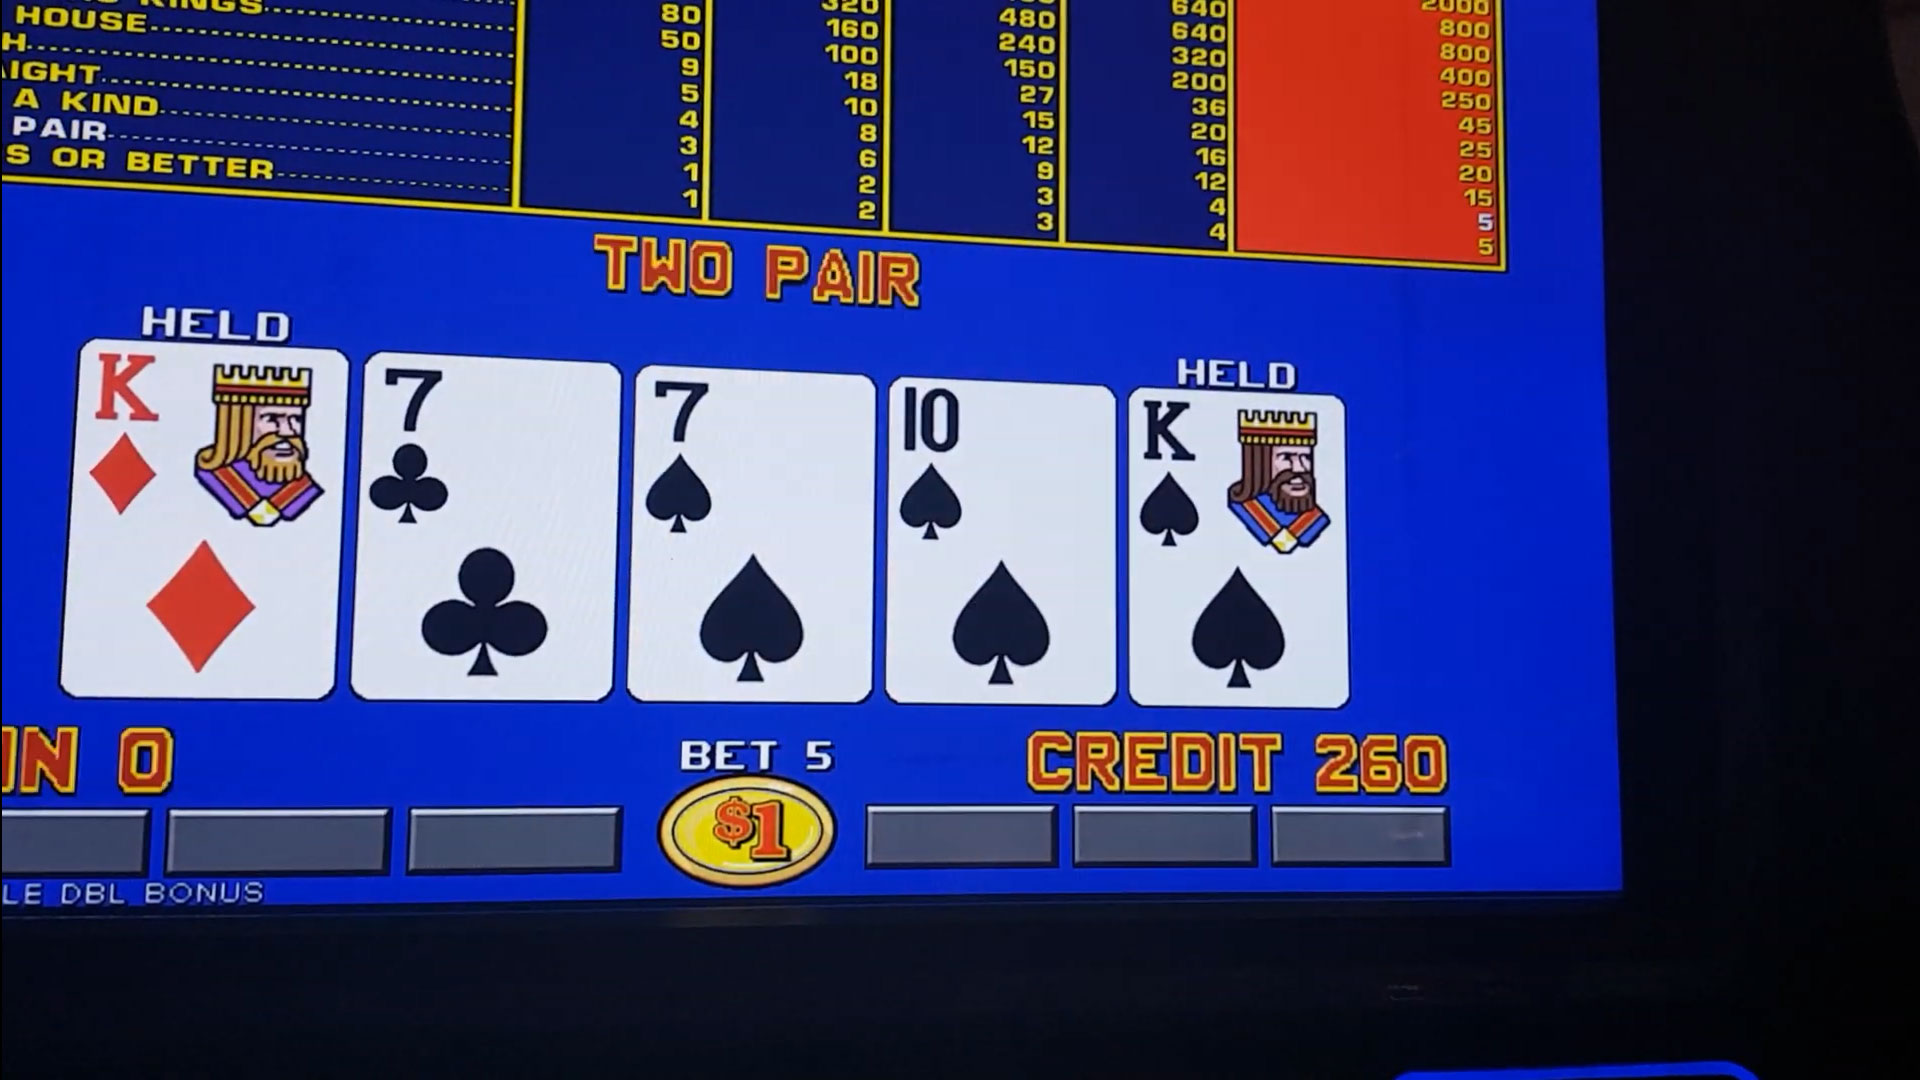C7: (367, 365, 616, 539)
DK: (84, 352, 342, 520)
SK: (1135, 398, 1338, 553)
ST: (636, 381, 872, 542), (893, 390, 1112, 551)
